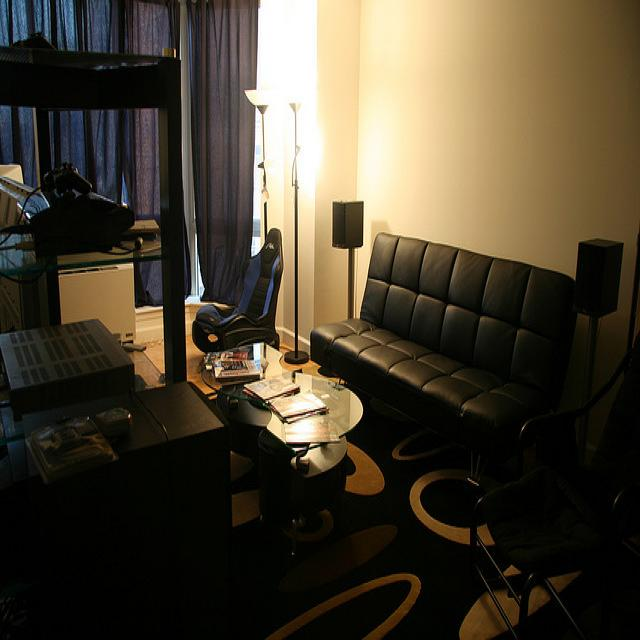chair: (471, 311, 640, 640), (192, 228, 284, 354)
dining table: (201, 344, 363, 526)
